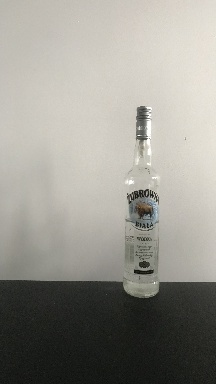butelka: (122, 102, 160, 300)
